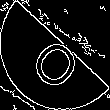O_NE: (23, 21, 87, 89)
